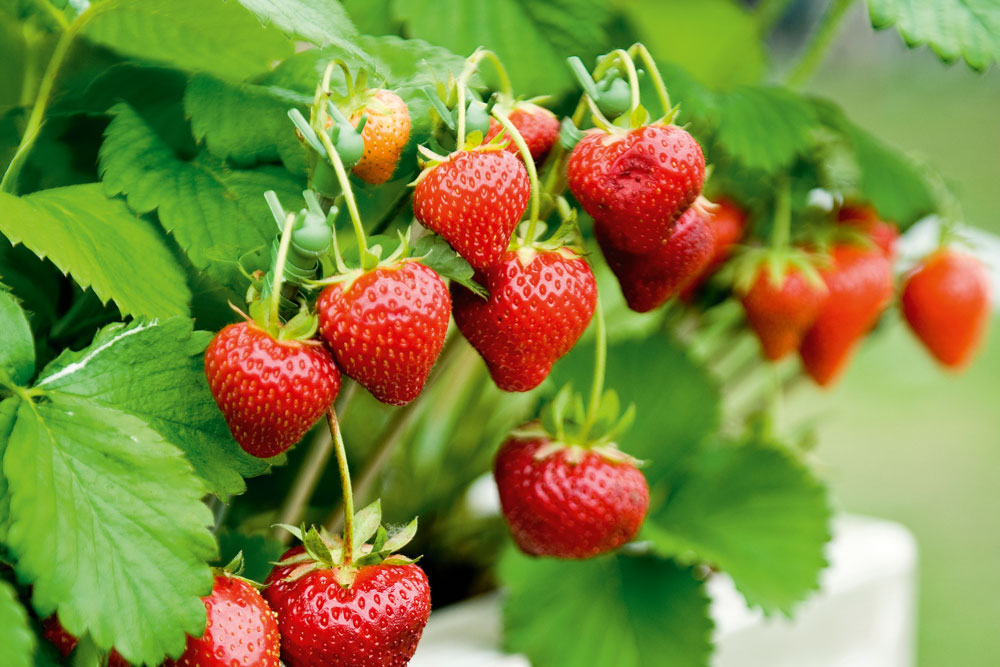ripe_strawberry: (42, 565, 284, 667), (450, 239, 600, 395), (493, 418, 652, 563), (313, 259, 458, 408), (267, 540, 436, 667), (204, 318, 344, 459), (566, 122, 707, 259), (409, 143, 534, 273), (796, 231, 893, 392), (591, 199, 719, 314), (738, 245, 827, 365), (897, 255, 985, 369), (324, 86, 415, 188), (475, 100, 565, 166)
